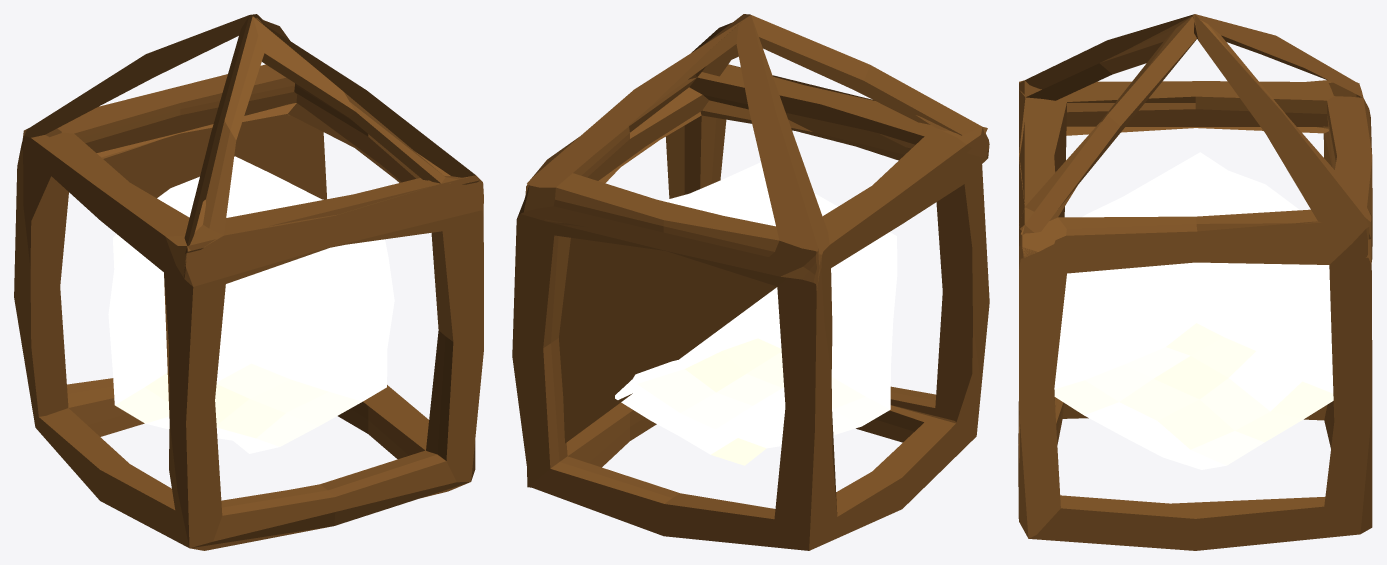
Rendered from lampa_z_duzym_gwintem.fbx.
3 renders of one model, left to right at view 1: azimuth 30°, elevation 25°; view 2: azimuth 150°, elevation 25°; view 3: azimuth 270°, elevation 25°, orthographic. The views are drawn at different scales.
Visible parts, largest first — view 1: Cube.001, Cube; view 2: Cube.001, Cube; view 3: Cube.001, Cube.
Part boxes in pixels (left/top/right/bottom): Cube.001: left=14, top=14, right=483, bottom=550; Cube: left=108, top=156, right=394, bottom=453; Cube.001: left=512, top=14, right=989, bottom=550; Cube: left=615, top=162, right=897, bottom=465; Cube.001: left=1018, top=14, right=1372, bottom=550; Cube: left=1054, top=152, right=1333, bottom=469.
Bounding box in the file's own units: 200 × 289 × 201.
